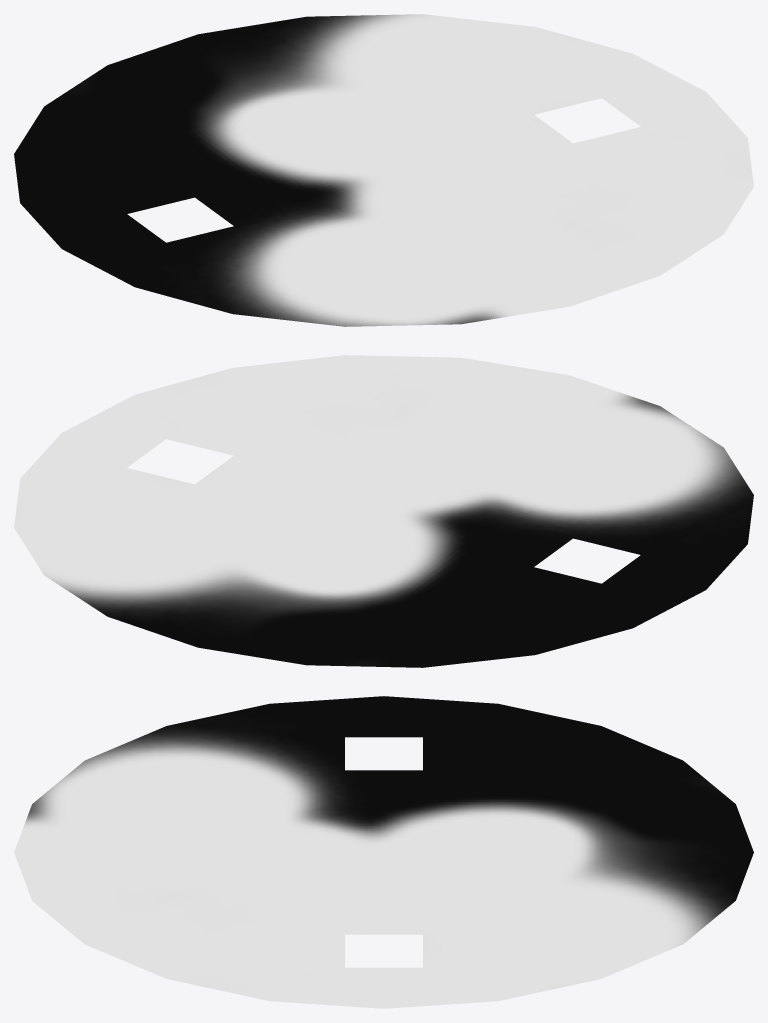
The model's file is pollution00.dae.
3 renders of one model, top to bottom at view 1: azimuth 30°, elevation 25°; view 2: azimuth 150°, elevation 25°; view 3: azimuth 270°, elevation 25°, orthographic.
Parts seen in each view (by area): view 1: m0; view 2: m0; view 3: m0.
Boxes of the visible parts, <box> form: m0: <box>14,14,753,326</box>; m0: <box>14,355,753,667</box>; m0: <box>14,696,753,1008</box>.
Size of the model in its own units: 3800 by 0 by 3800.
